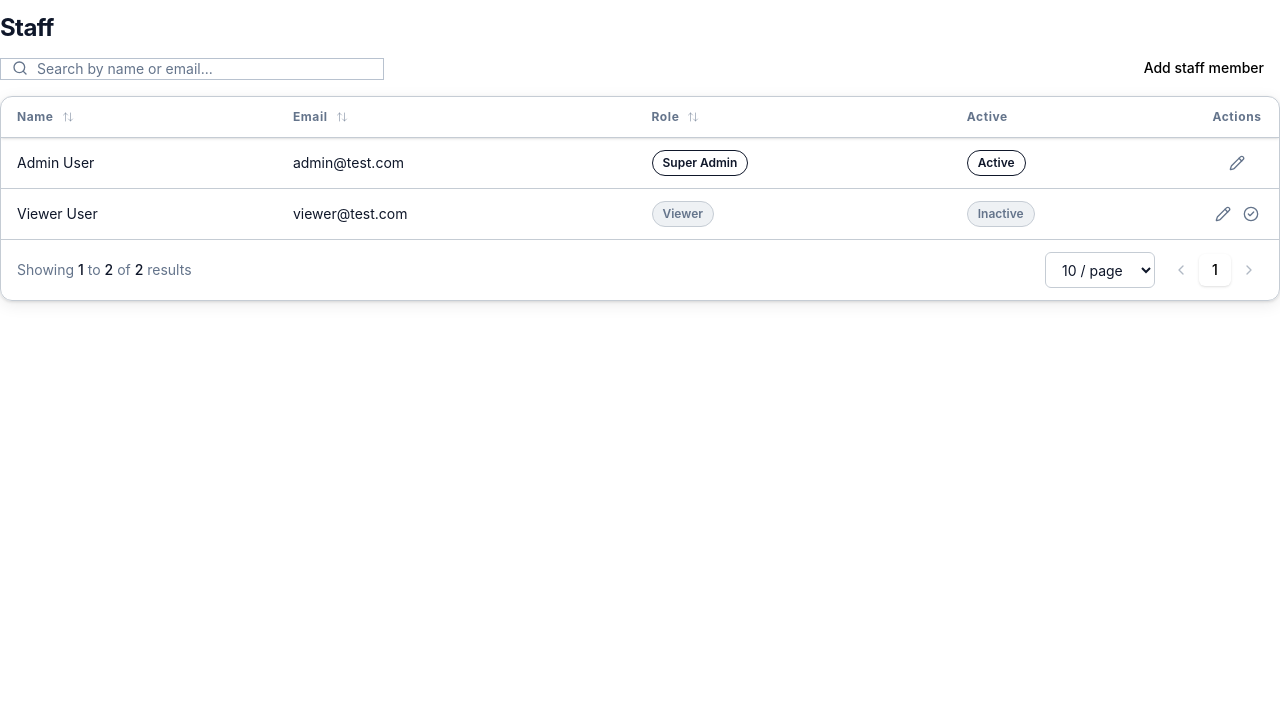
StaffListPage › SUPER_ADMIN role › opens the create dialog when "Add staff member" is clicked
Click the button "Add staff member": (1204, 68) [1128, 58, 1279, 78]
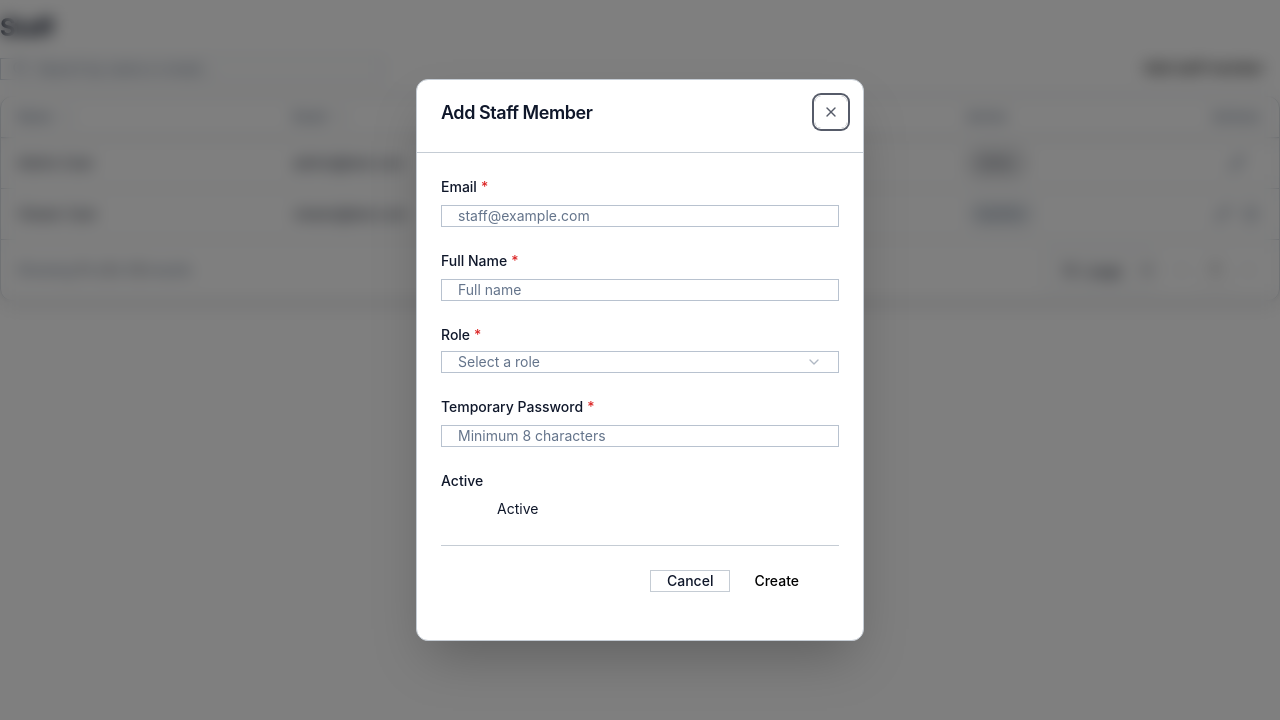
Expected: the text "Add Staff Member" is shown, [441, 102, 592, 123]
